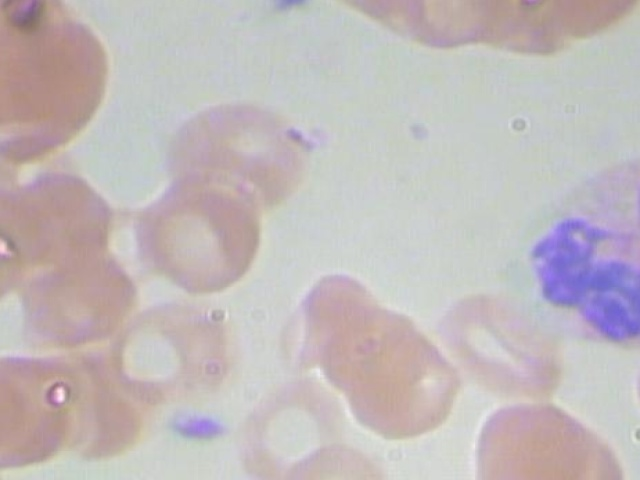Platelets: (165, 405, 230, 452), (256, 0, 322, 19)
RBC: (148, 95, 325, 210), (330, 294, 460, 450), (137, 172, 286, 300), (104, 280, 253, 407), (0, 18, 122, 167), (4, 229, 149, 350), (271, 258, 398, 388), (440, 286, 575, 406), (0, 152, 131, 273), (458, 393, 634, 480), (235, 372, 352, 480), (0, 348, 89, 470), (386, 0, 503, 50), (278, 439, 394, 480), (0, 199, 27, 316), (633, 323, 640, 444)
WBC: (490, 144, 640, 354)
